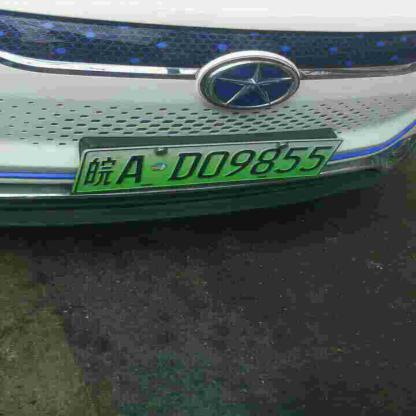lp: (74, 140, 343, 194)
